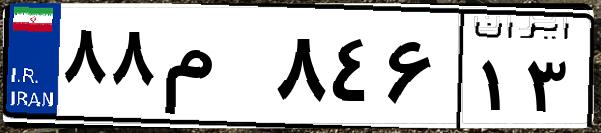1: (475, 38, 525, 113)
3: (525, 38, 570, 115)
4: (330, 28, 385, 110)
6: (385, 28, 445, 110)
8: (270, 28, 330, 110), (57, 26, 110, 100), (110, 28, 158, 98)
م: (158, 20, 270, 120)
